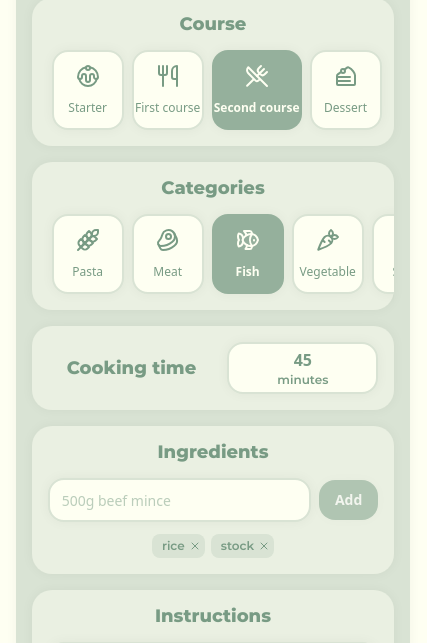
Test: EditRecipe delete flow › keeps the cooking time input digit-only
(page scrolled)
Replace the text in the field showing "45" with "1e2-3.4abc" at [303, 360], box [284, 348, 321, 372]
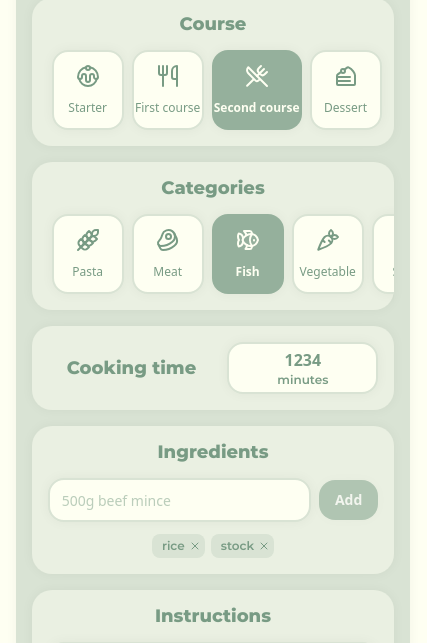
Expected: the field showing "45" holds "1234", [284, 348, 321, 372]
